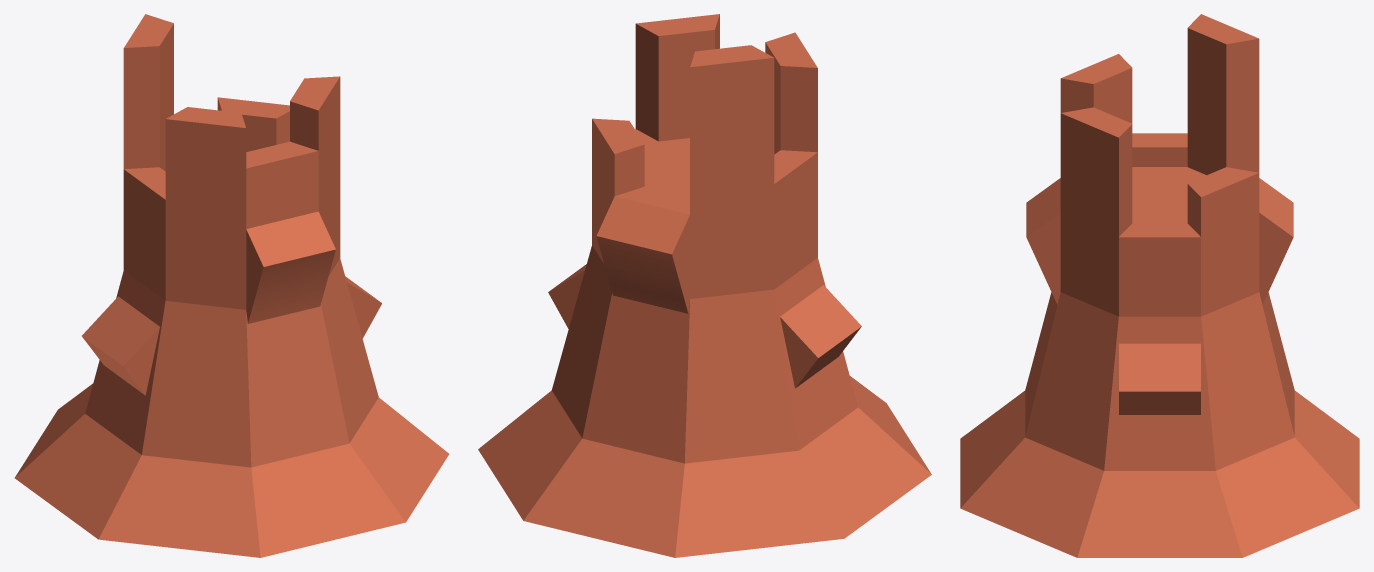
File: deadtree2.fbx
3 renders of one model, left to right at view 1: azimuth 30°, elevation 25°; view 2: azimuth 150°, elevation 25°; view 3: azimuth 270°, elevation 25°, orthographic. The views are drawn at different scales.
Parts seen in each view (by area): view 1: trunk_base, trunk_topBroken, trunk_detailedB; view 2: trunk_base, trunk_topBroken, trunk_detailedB; view 3: trunk_base, trunk_topBroken, trunk_detailedB.
Boxes of the visible parts, <box> form: trunk_base: <box>14,258,449,557</box>; trunk_topBroken: <box>123,14,340,269</box>; trunk_detailedB: <box>82,179,381,395</box>; trunk_base: <box>478,245,931,557</box>; trunk_topBroken: <box>592,14,817,256</box>; trunk_detailedB: <box>548,130,861,388</box>; trunk_base: <box>960,292,1359,557</box>; trunk_topBroken: <box>1060,14,1259,276</box>; trunk_detailedB: <box>1026,167,1293,414</box>.
Bounding box in the file's own units: 7.28 × 8.4 × 7.28.
